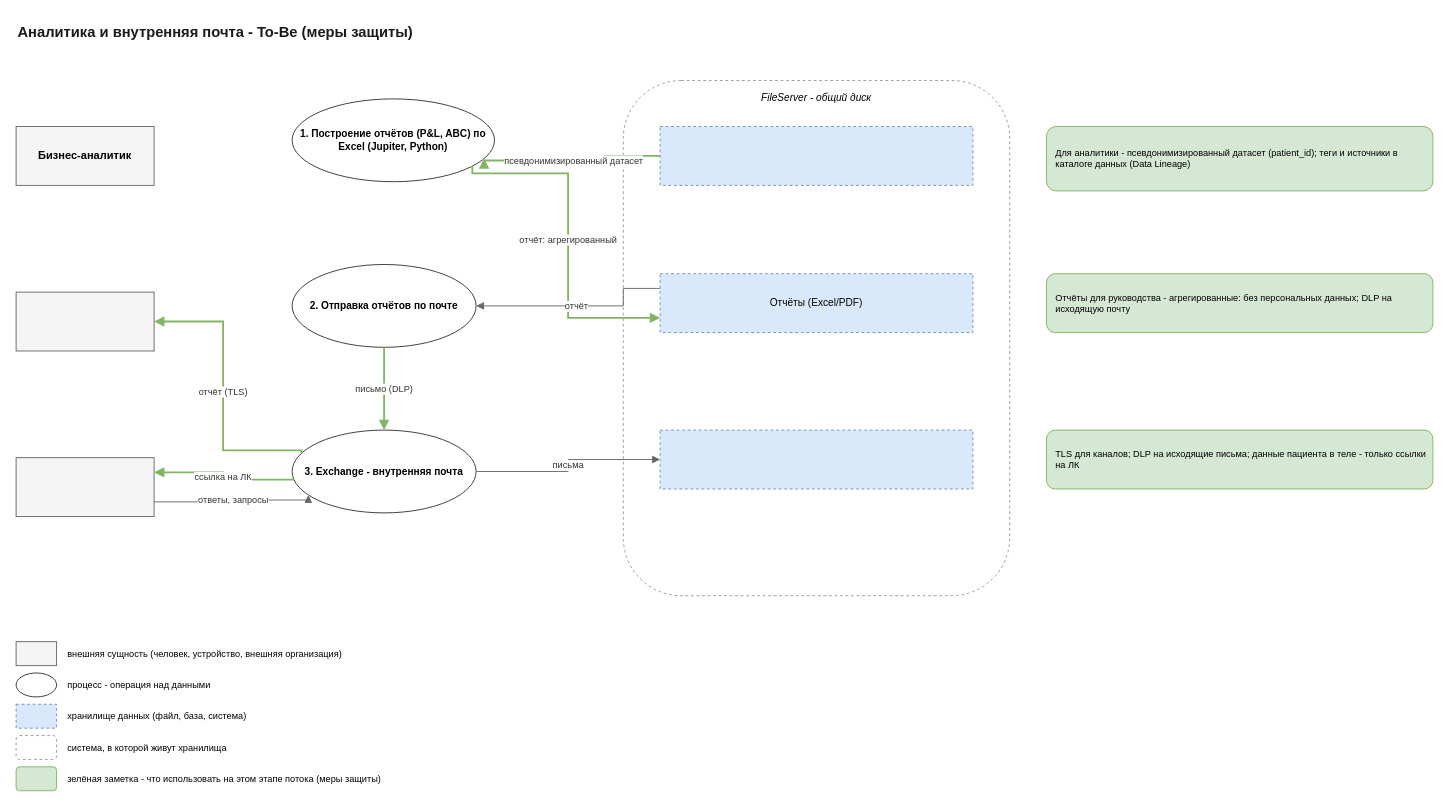
Image size: 1449x807. Some labels were removed from this diagram. Each missing label, with the centre of its shape:
"Исходные Excel (Patients, Journal, Payments, RegistryByDate)" goes at [816,155].
"Почтовые ящики (Exchange)" goes at [816,459].
"Руководство" goes at [84,321].
"Сотрудники" goes at [84,487].
